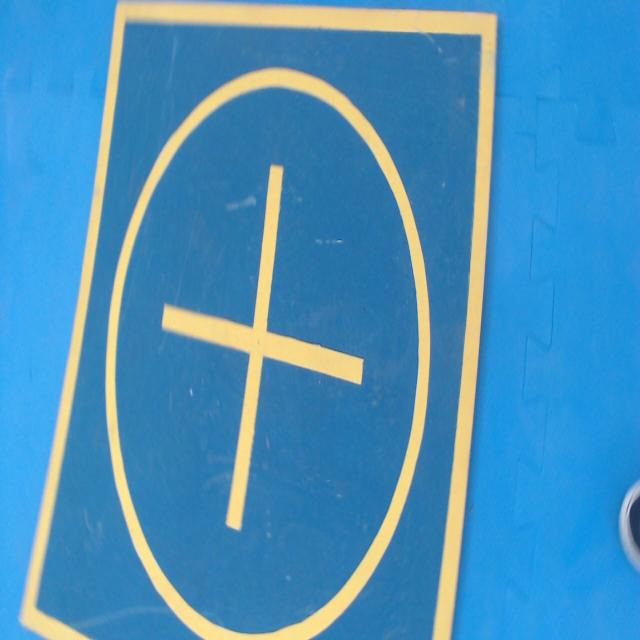base_pouso: (16, 5, 498, 639)
